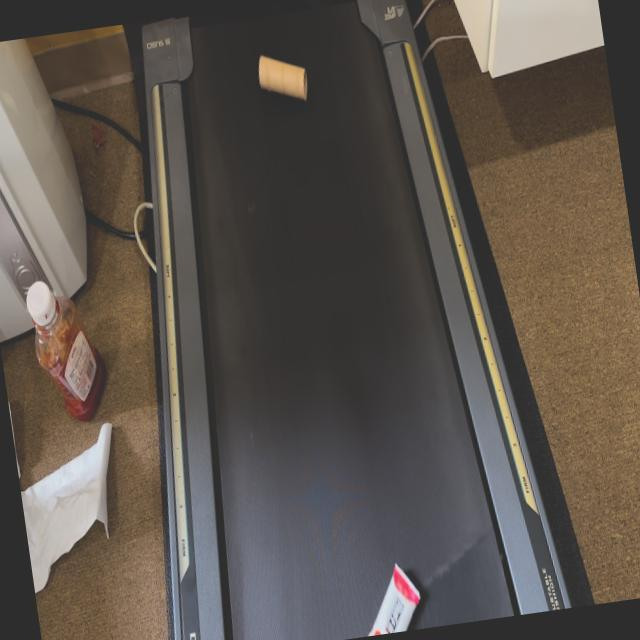Recycle: (254, 48, 312, 108)
Trash: (357, 560, 427, 636)
